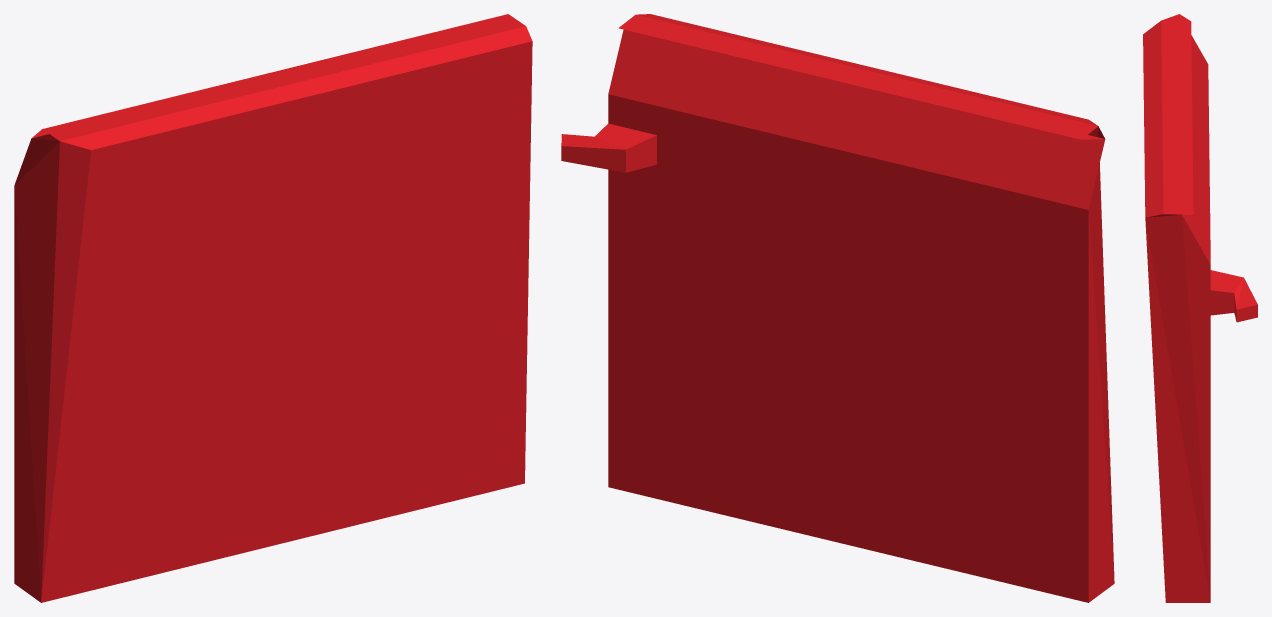
The model's file is rightDoor.dae.
3 renders of one model, left to right at view 1: azimuth 30°, elevation 25°; view 2: azimuth 150°, elevation 25°; view 3: azimuth 270°, elevation 25°, orthographic. The views are drawn at different scales.
Parts seen in each view (by area): view 1: RightDoor; view 2: RightDoor; view 3: RightDoor.
Part boxes in pixels (left/top/right/bottom): RightDoor: left=14, top=14, right=532, bottom=602; RightDoor: left=561, top=14, right=1114, bottom=602; RightDoor: left=1143, top=14, right=1257, bottom=602.
Bounding box in the file's own units: 0.8527 × 0.1936 × 0.7223.
1 material, 1 textured.
